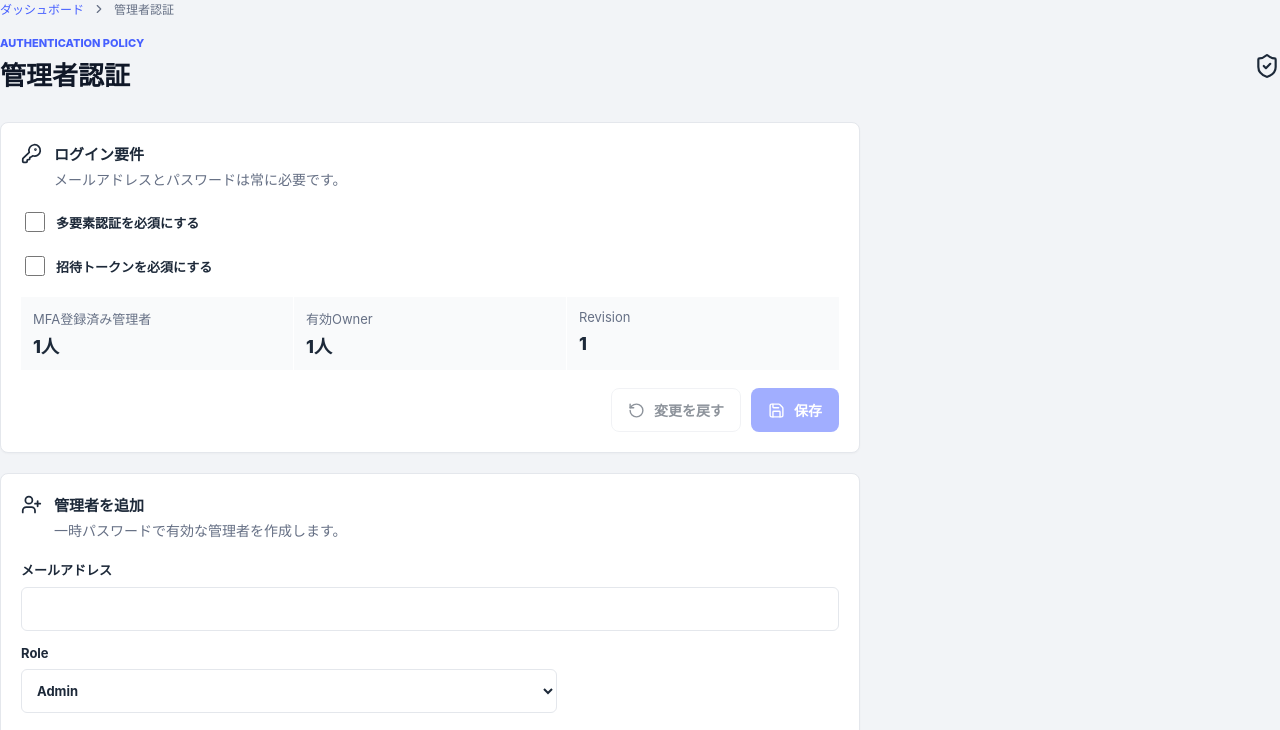
AdminAuthenticationSettings › does not reopen reauthentication for a legacy Fresh error
Expected: the heading "ログイン要件" is shown, [54,145,144,164]
Step 1. Click the checkbox labelled "招待トークンを必須にする" → point(35, 266), box [25,256,45,276]
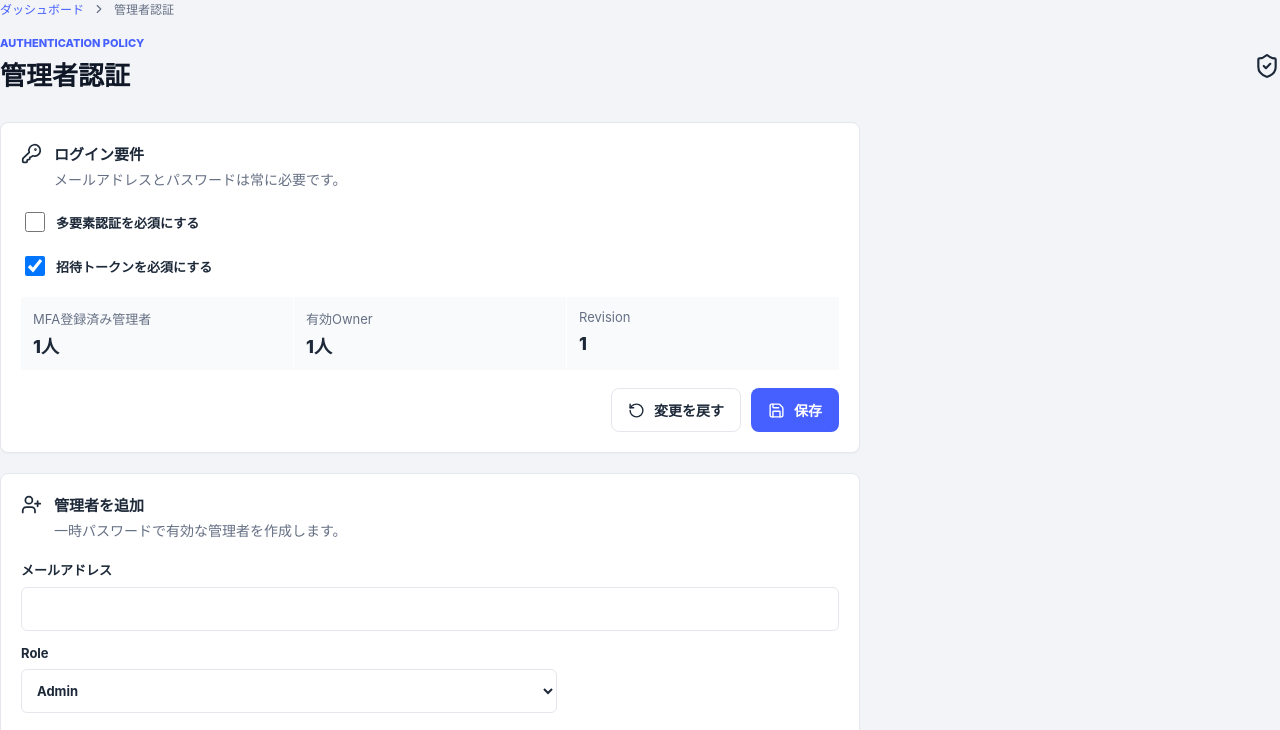
Step 2. Click the button "保存" → point(795, 410), box [751,388,839,432]
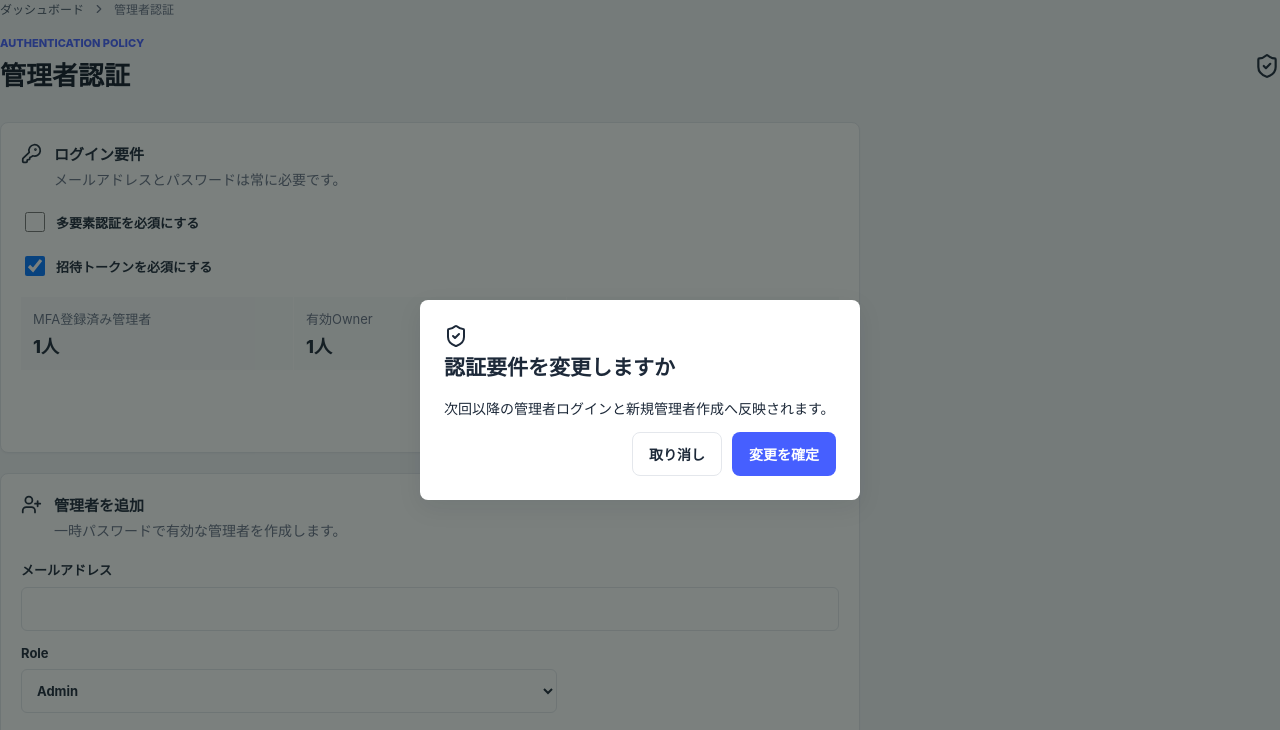
Step 3. Click the button "変更を確定" → point(784, 454), box [732,432,836,476]
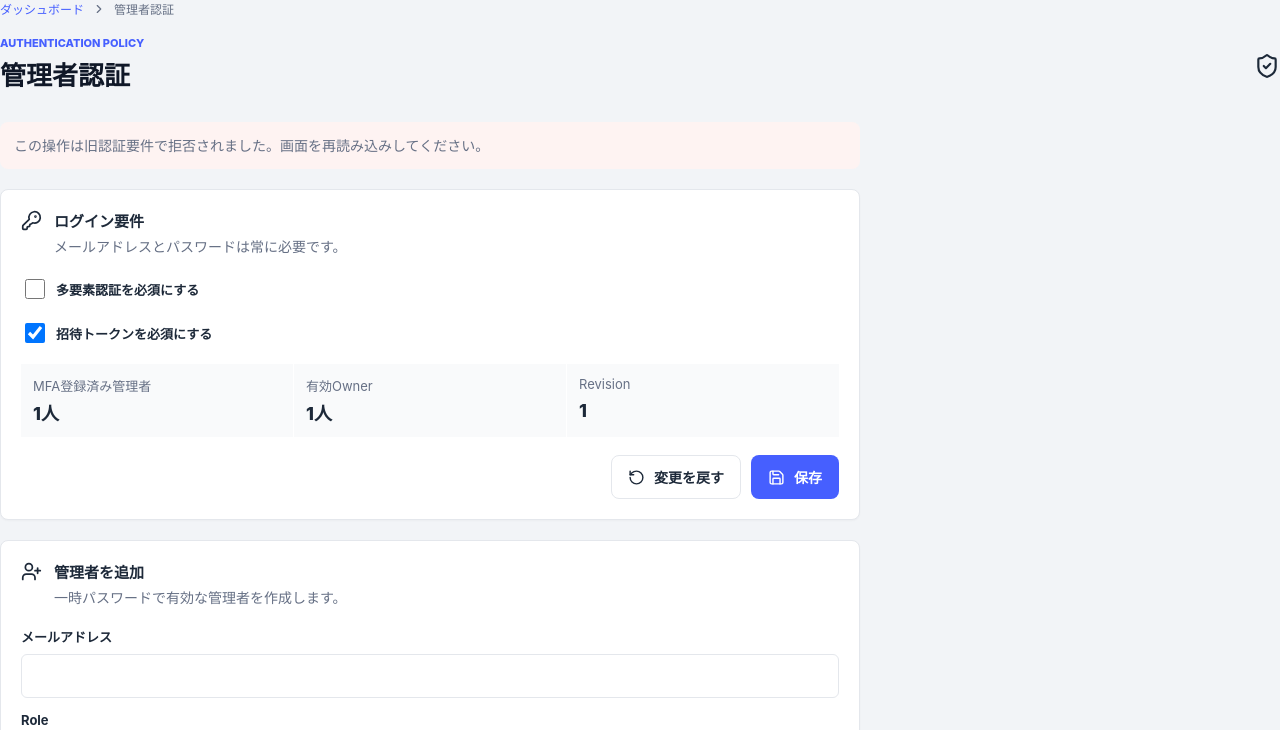
Expected: the message "この操作は旧認証要件で拒否されました。画面を再読み込みしてください。" is shown, [0,122,860,169]
